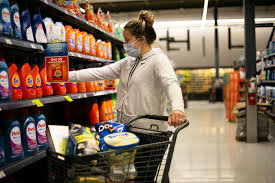with_basket: (50, 113, 187, 180)
with_mask: (121, 20, 154, 58)
